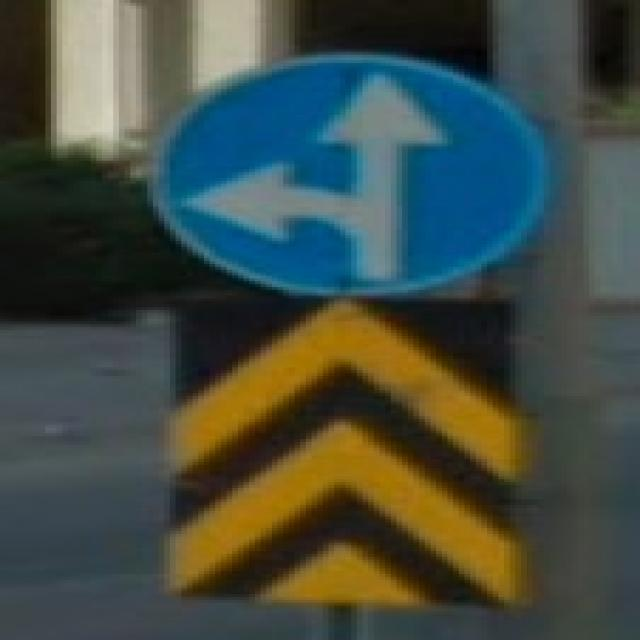Straight or Left: (154, 54, 545, 295)
